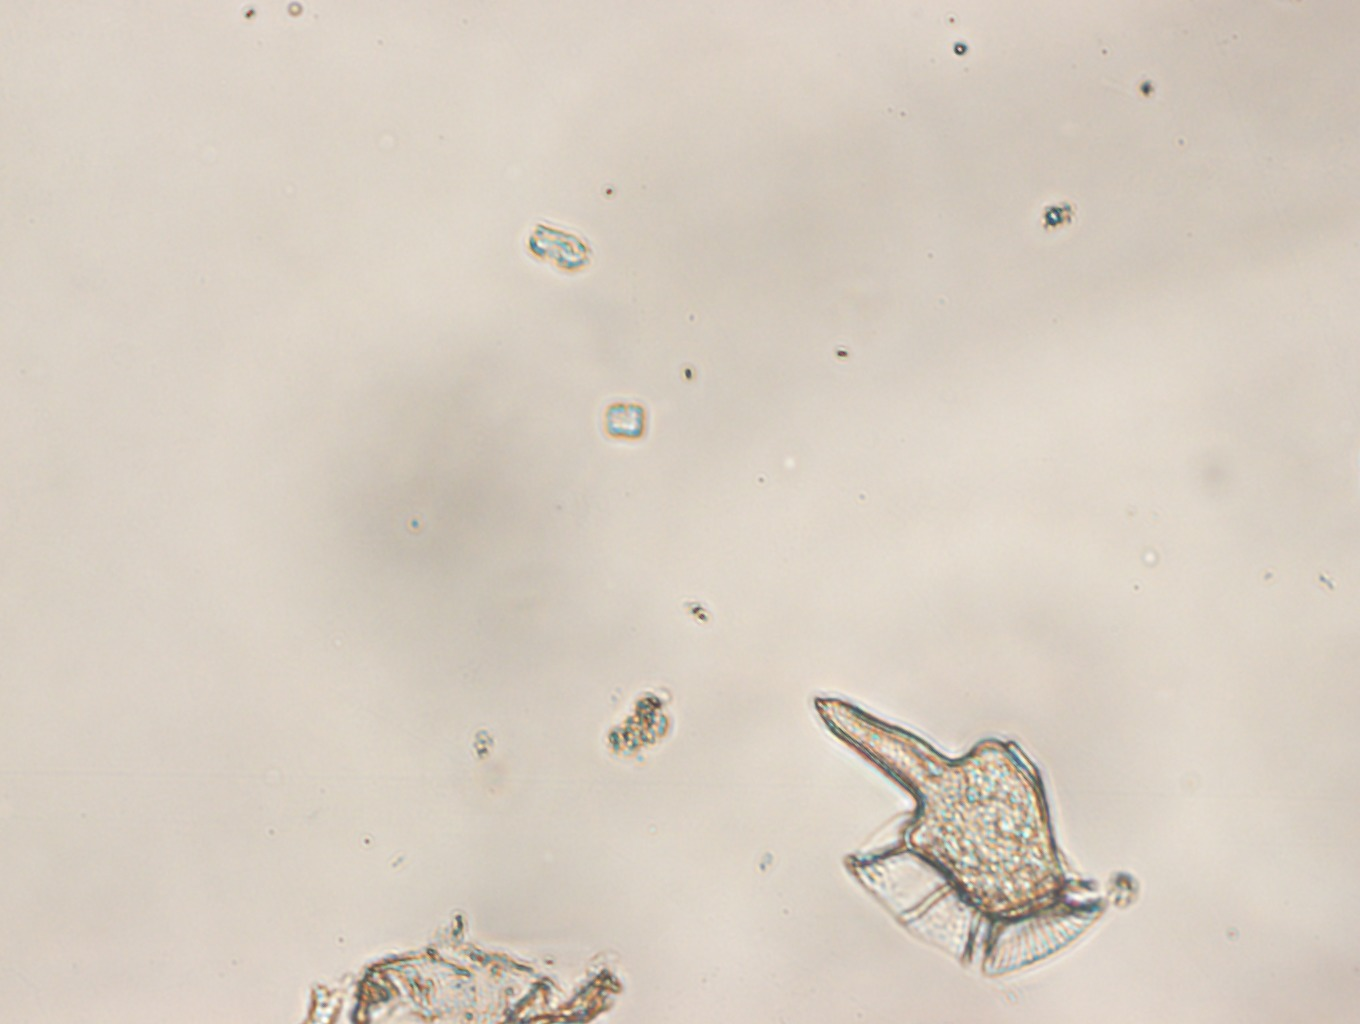dinophysis caudata: (810, 693, 1117, 979)
